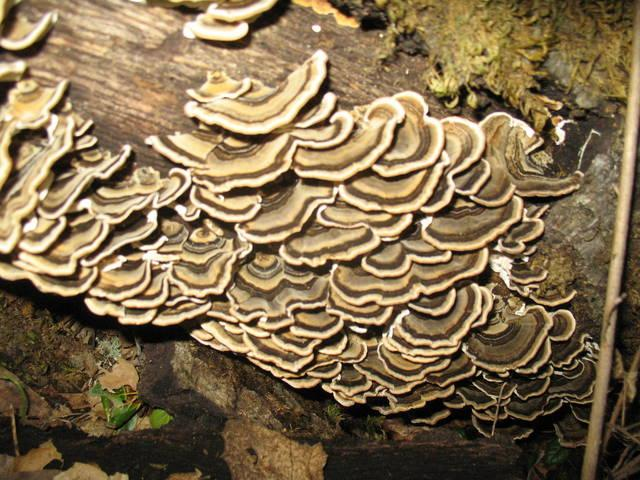Non-edible Mushroom: (1, 4, 600, 438)
